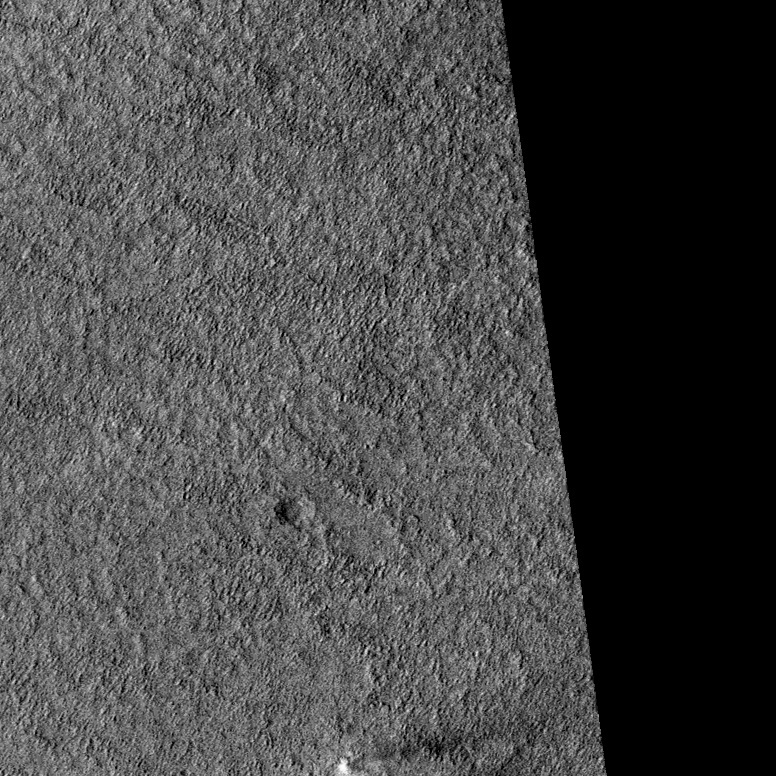dust_devil: (337, 729, 491, 776)
